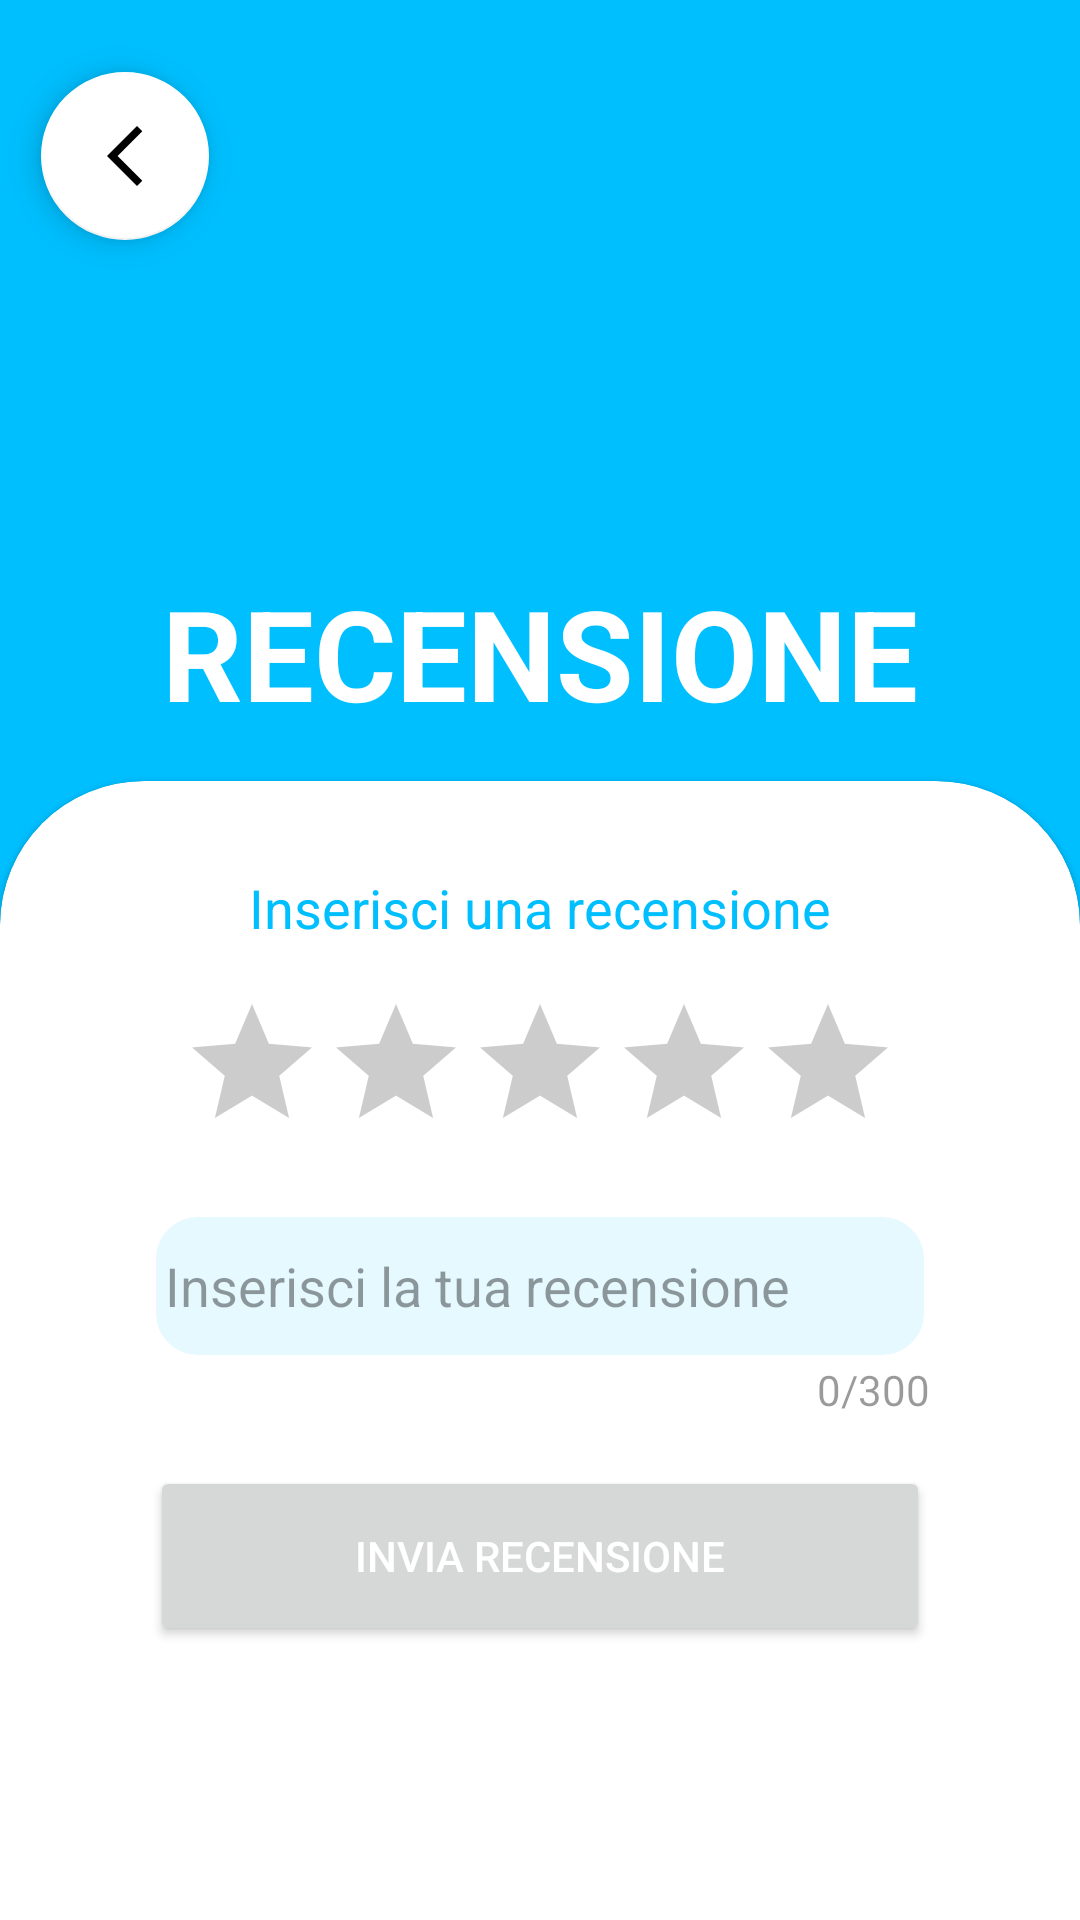

Named icons in this screenshot (1080w x 1920h) and their bounding boxes, {"x1": x1, "y1": y1, "x2": x2, "y2": y2}:
arrow back: {"x1": 41, "y1": 72, "x2": 209, "y2": 240}
